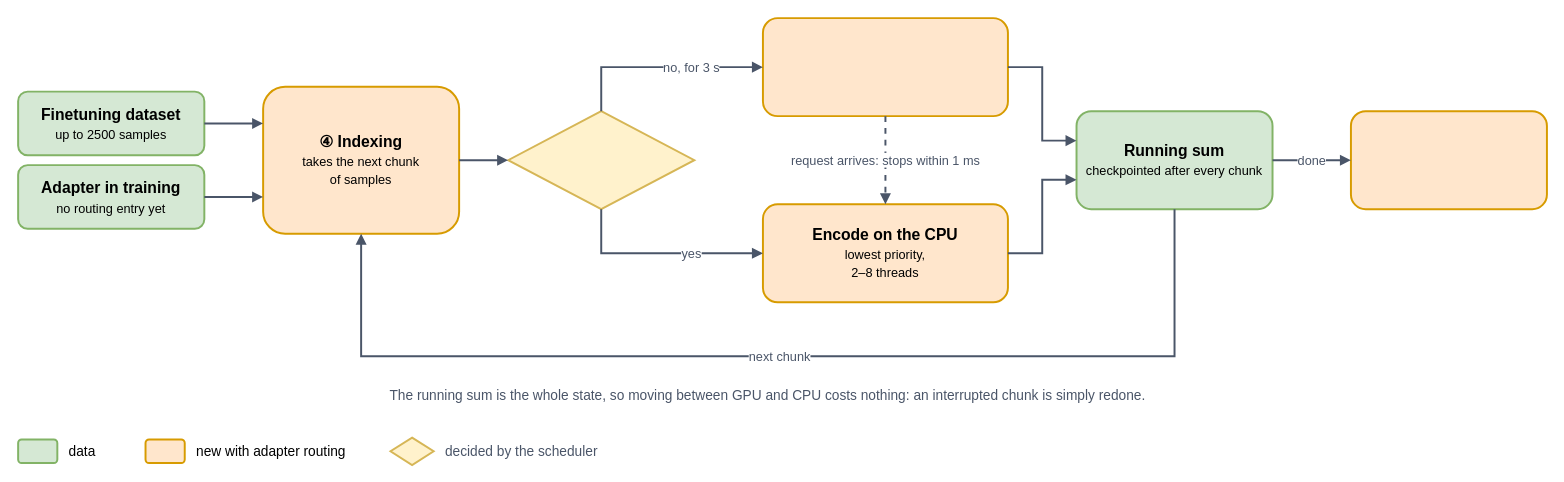
The diagram is 1564 pixels wide and 482 high, and some of its shapes have lost their labels. Each missing label, with the centre of its shape:
"Adapter pool routing entry = the samples' centroid" belongs at point 1448,160.
"Encode on the GPU own process, shares the encoder weights" belongs at point 884,67.
"inference request present?" belongs at point 601,160.
